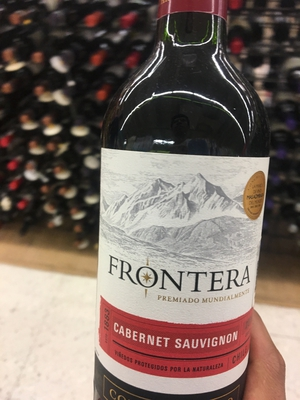frontera cabernet sauvignon: (92, 9, 274, 400)
